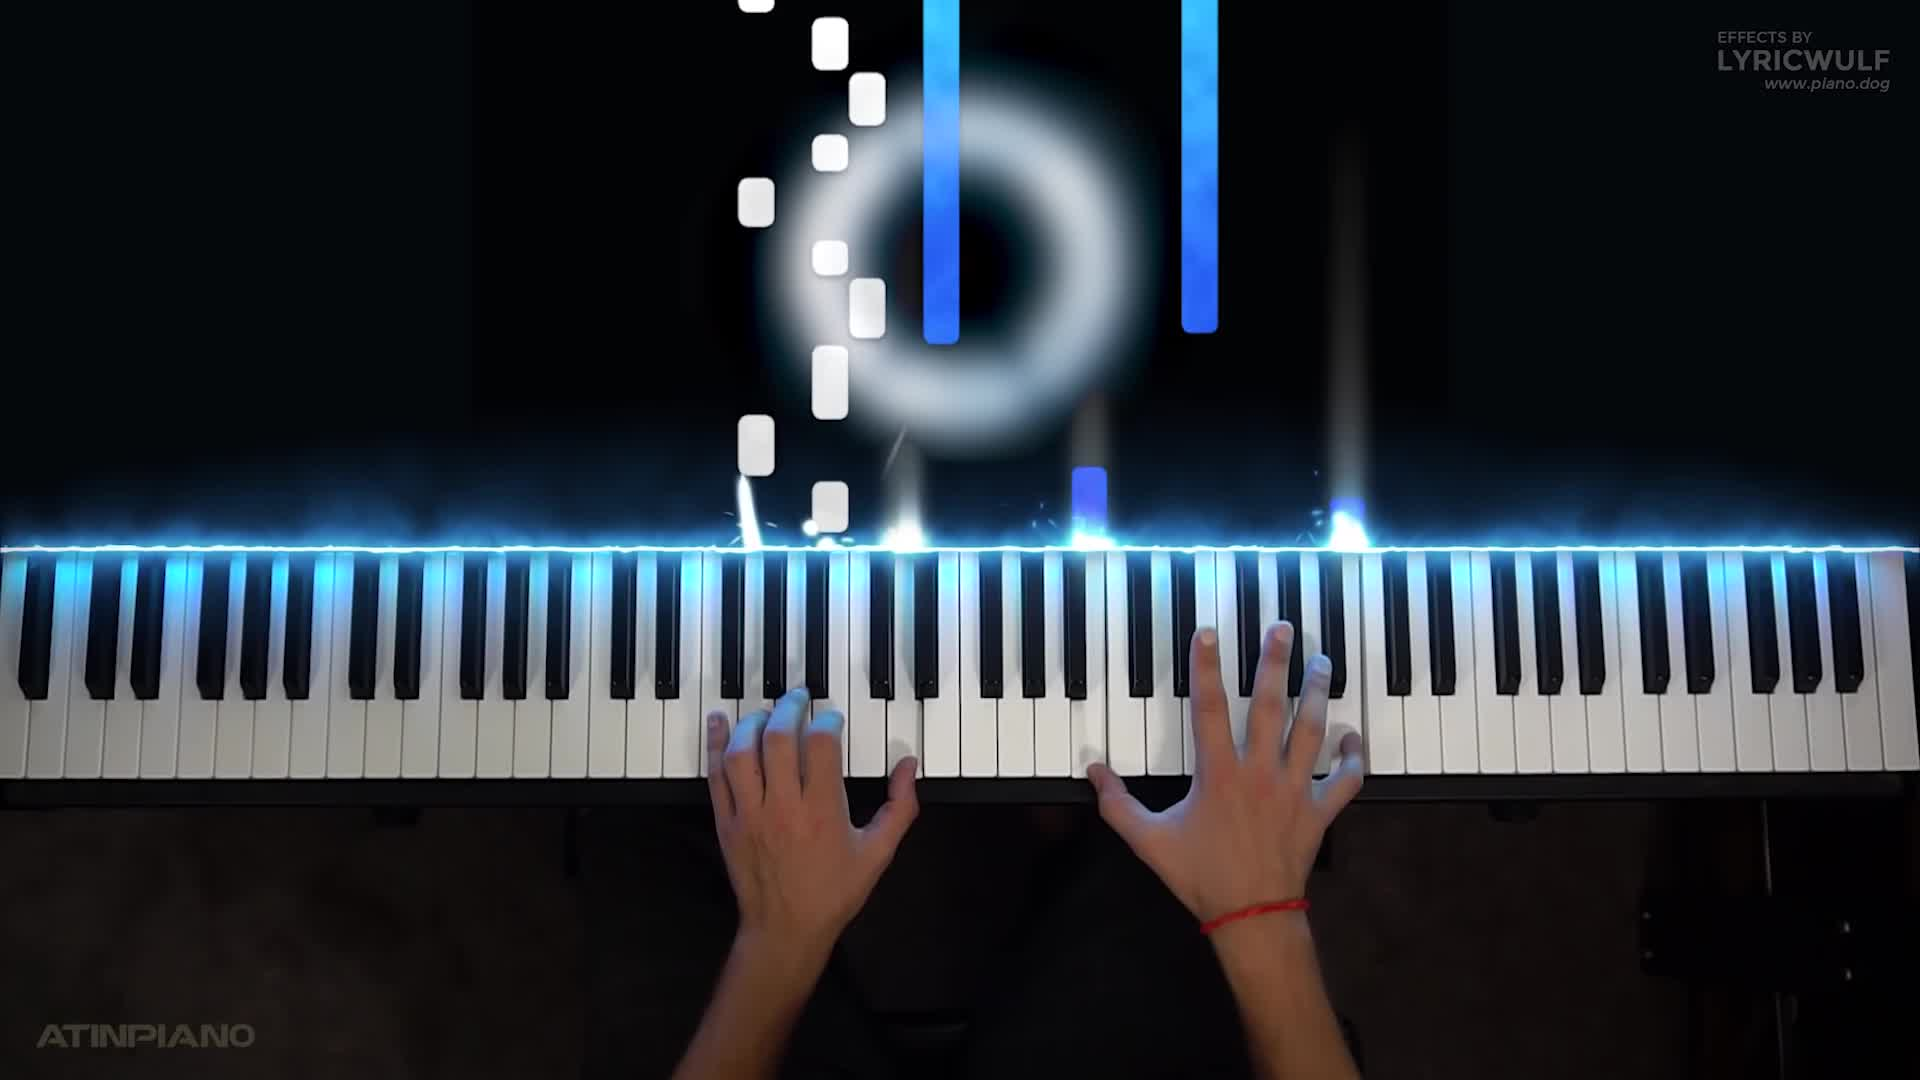left: (702, 676, 924, 916)
right: (1087, 618, 1375, 930)
